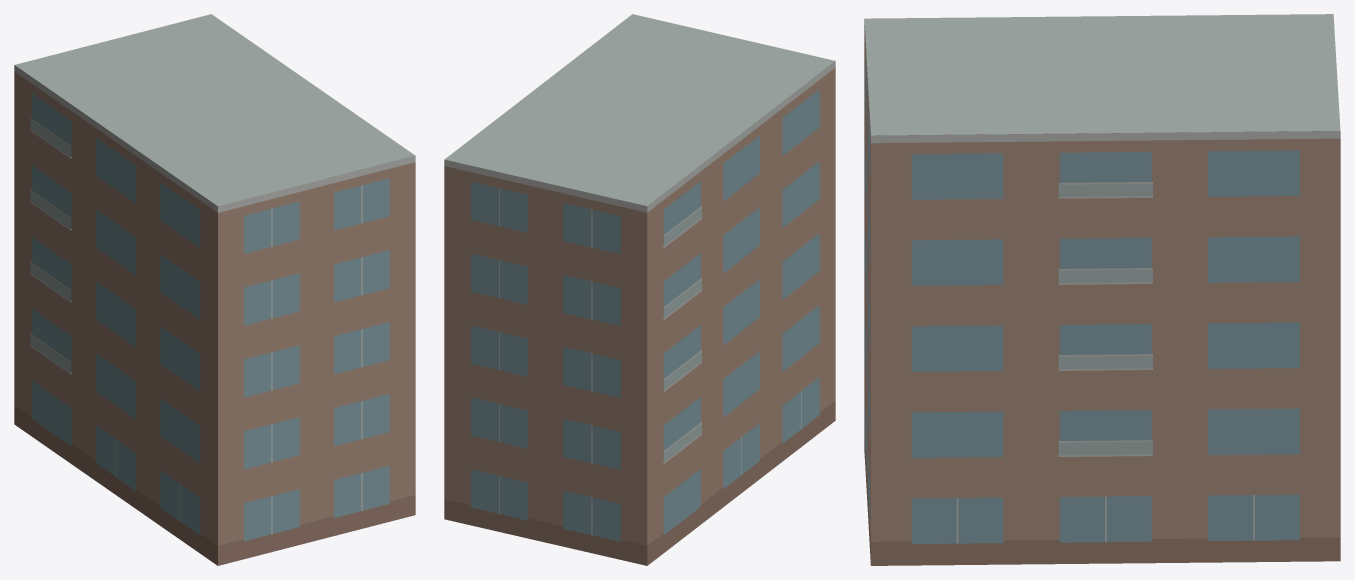
File: survey-upis-32951766.glb
The picture shows the model from 3 angles, left to right: view 1: azimuth 30°, elevation 25°; view 2: azimuth 150°, elevation 25°; view 3: azimuth 270°, elevation 25°; orthographic projection. The views are drawn at different scales.
Parts seen in each view (by area): view 1: survey-upis-32951766.tmp; view 2: survey-upis-32951766.tmp; view 3: survey-upis-32951766.tmp.
Boxes of the visible parts, bbox=[...] form: survey-upis-32951766.tmp: bbox=[14, 14, 415, 565]; survey-upis-32951766.tmp: bbox=[444, 14, 835, 565]; survey-upis-32951766.tmp: bbox=[864, 14, 1340, 565].
Bounding box in the file's own units: 8.19 × 13.5 × 13.55.
